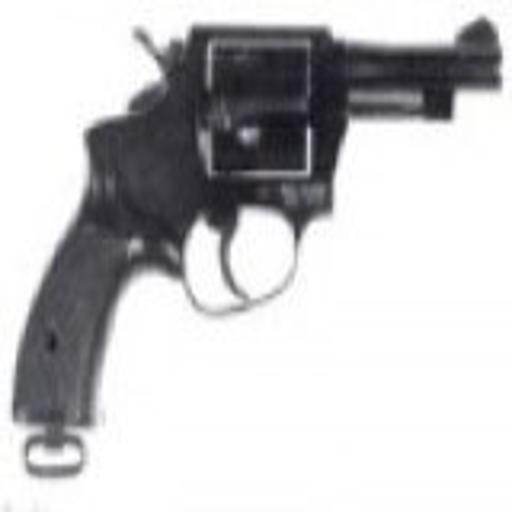Handgun: (5, 7, 504, 485)
